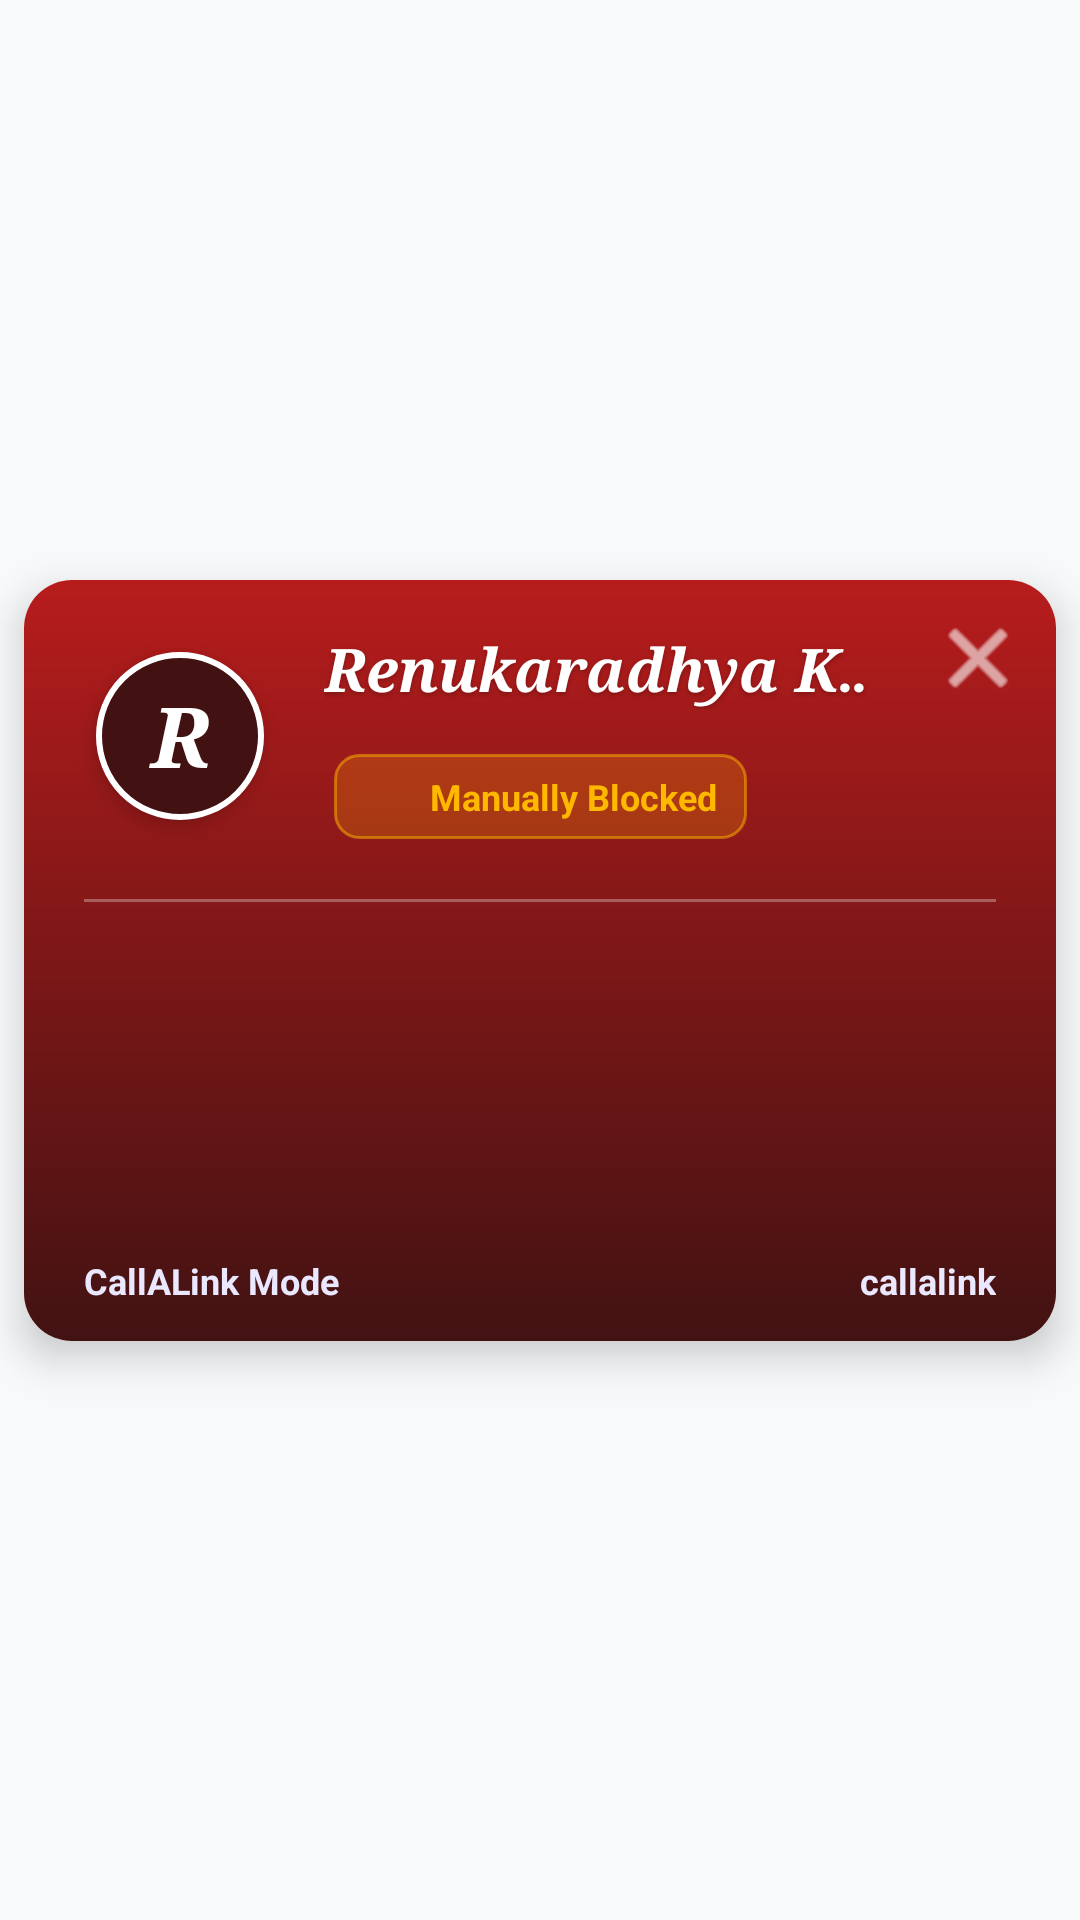

Named icons in this screenshot (1080×1920) and their centers, point (x, y):
Close: point (978, 658)
